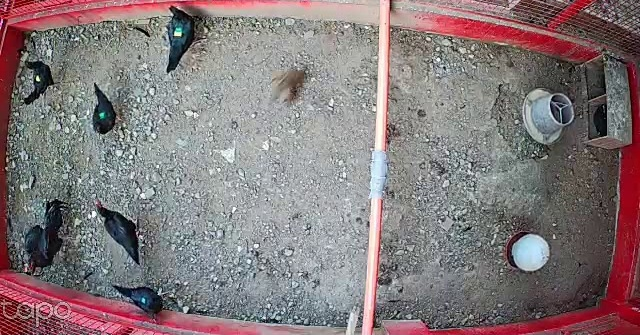Chicken: (93, 196, 145, 265), (166, 3, 206, 79), (108, 277, 171, 317), (20, 56, 62, 107), (91, 83, 118, 138)
Rooster: (21, 194, 75, 280)
Saddle_Color_Blue: (140, 297, 147, 303)
Saddle_Color_Yellow: (36, 75, 41, 82)
Saddle_Color_YellowGreen: (171, 28, 182, 39)
